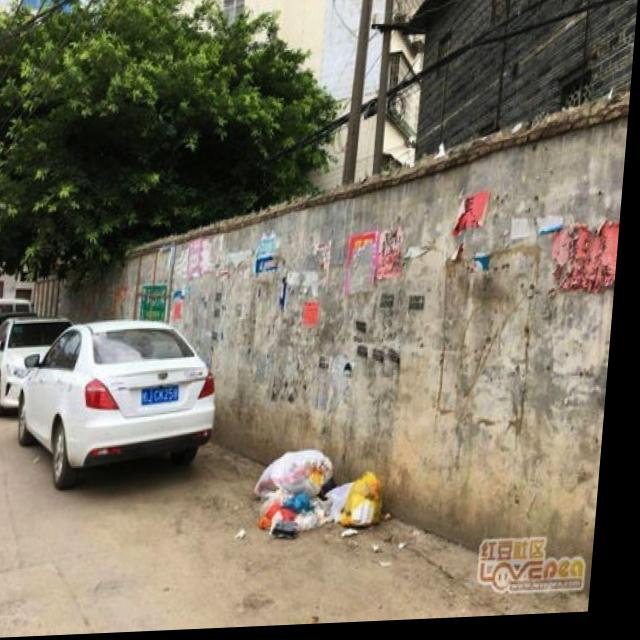garbage: (258, 448, 393, 544)
